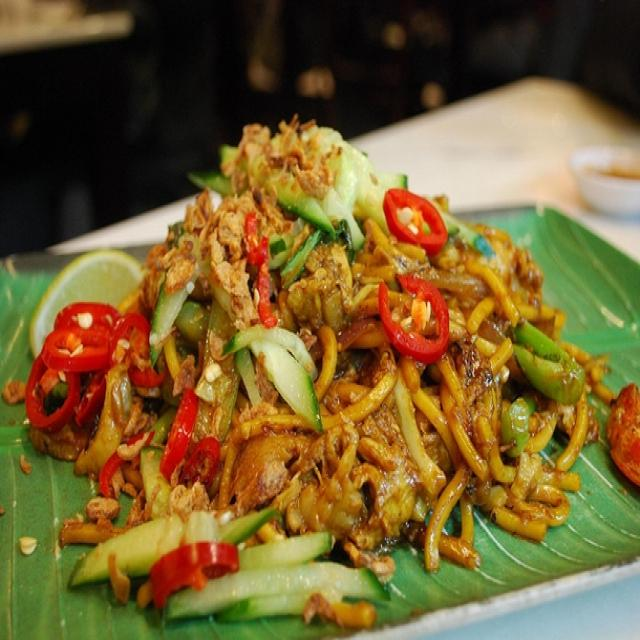面条主食: (29, 88, 610, 615)
